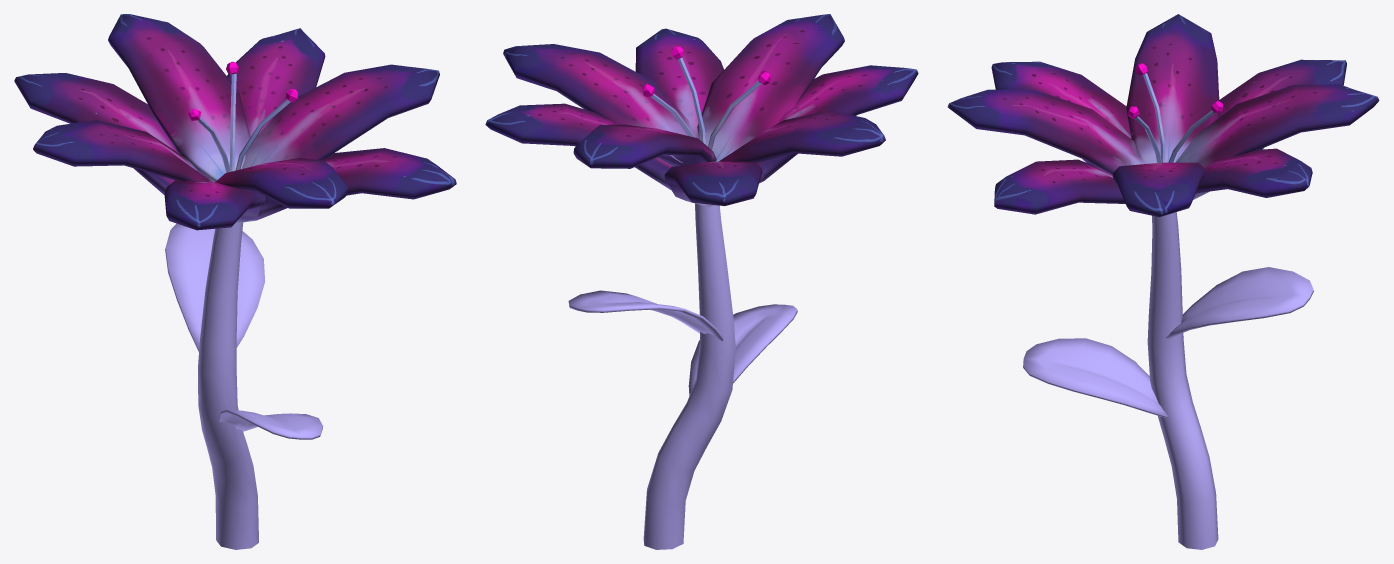
Rendered from tija.fbx.
The picture shows the model from 3 angles, left to right: view 1: azimuth 30°, elevation 25°; view 2: azimuth 150°, elevation 25°; view 3: azimuth 270°, elevation 25°; orthographic projection. The views are drawn at different scales.
Parts seen in each view (by area): view 1: group2_pCube2, Tija Flor Magica; view 2: group2_pCube2, Tija Flor Magica; view 3: group2_pCube2, Tija Flor Magica.
Boxes of the visible parts, left/top/right/bottom form: group2_pCube2: left=14, top=14, right=456, bottom=230; Tija Flor Magica: left=165, top=222, right=323, bottom=549; group2_pCube2: left=485, top=14, right=918, bottom=207; Tija Flor Magica: left=568, top=203, right=797, bottom=549; group2_pCube2: left=947, top=14, right=1379, bottom=217; Tija Flor Magica: left=1023, top=212, right=1313, bottom=549.
Size of the model in its own units: 319 by 362 by 319.
